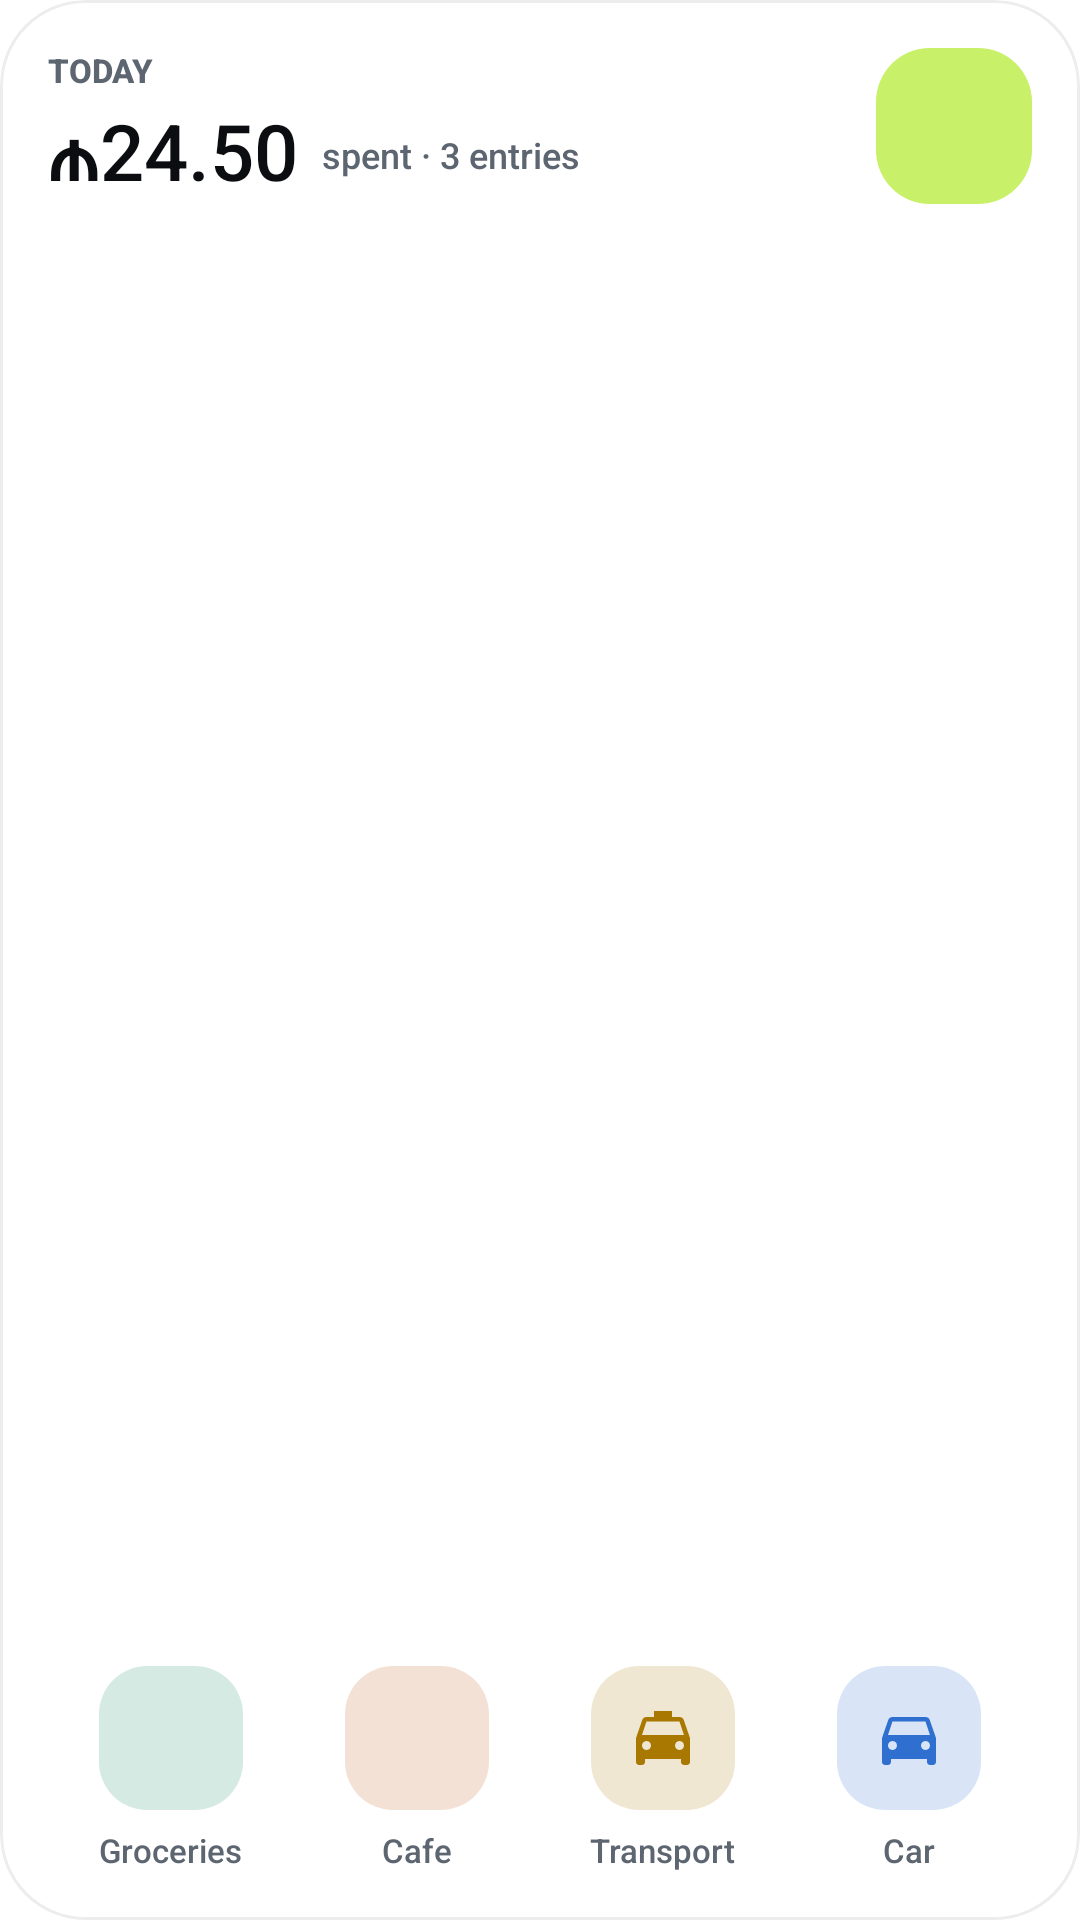

Named icons in this screenshot (1080w x 1920h) and their bounding boxes, (x1, y1, x2, y2):
widget taxi: (591, 1666, 735, 1810)
